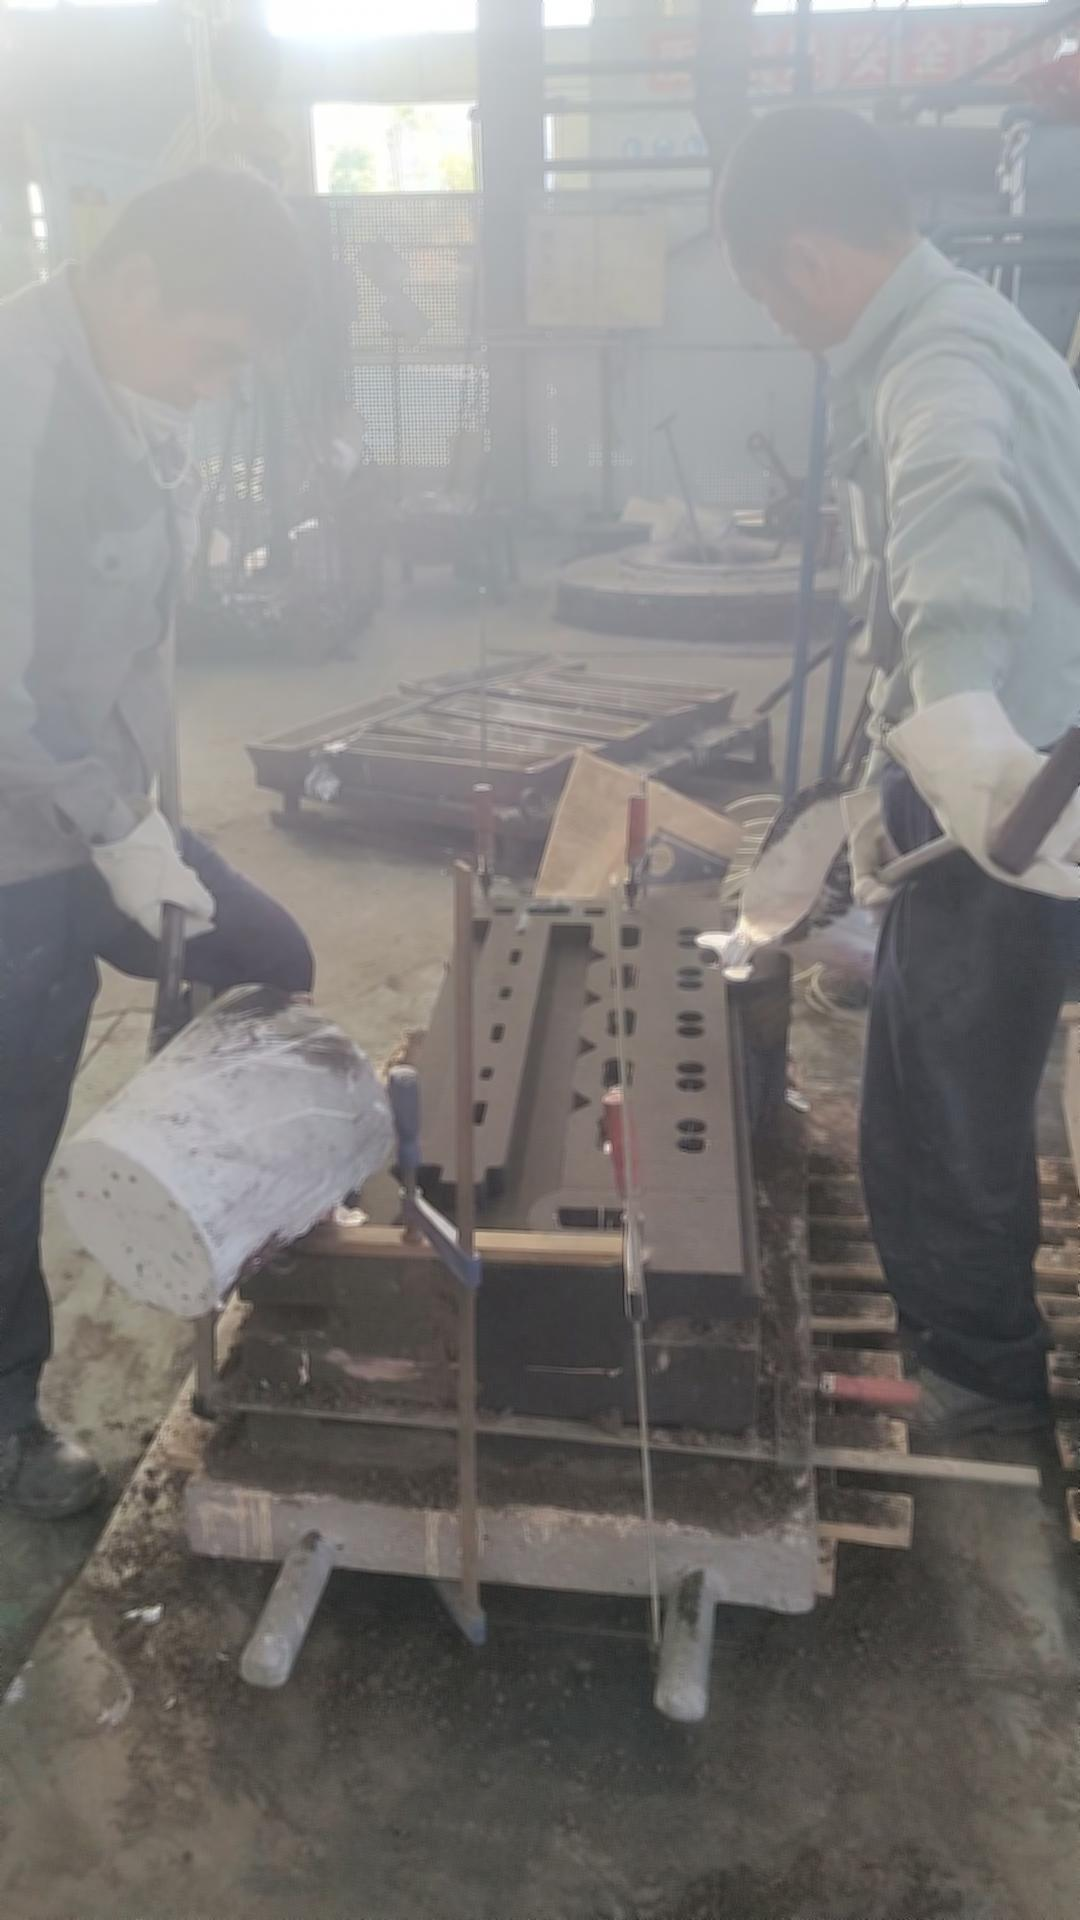pouring hole: (310, 1203, 367, 1230), (698, 945, 758, 971)
